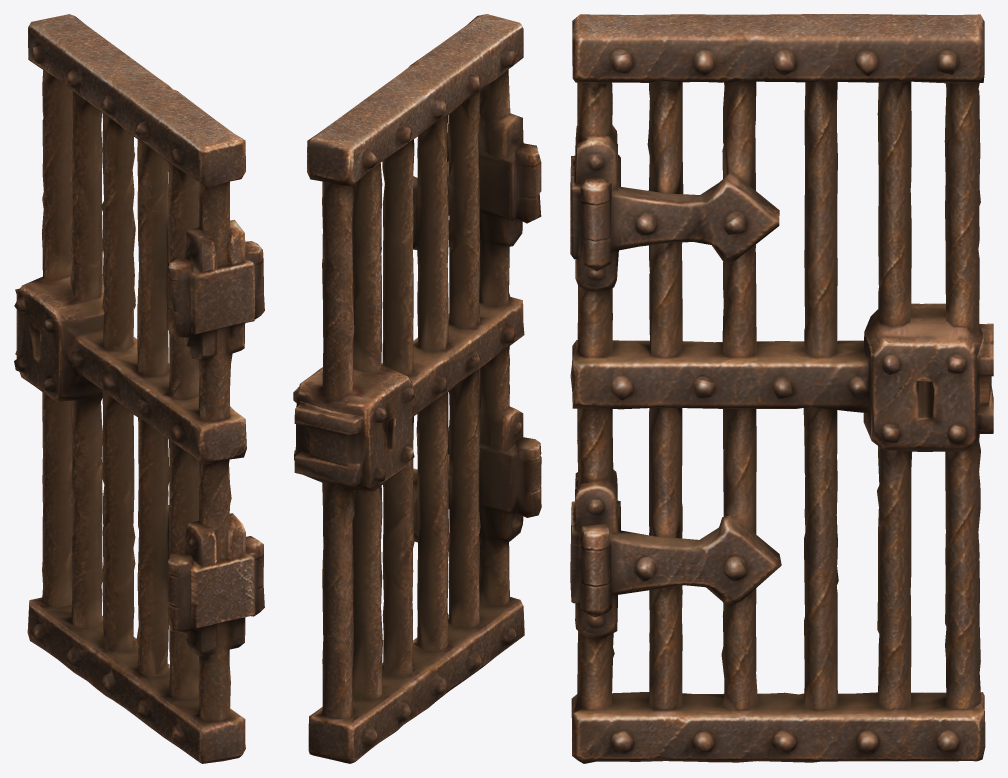
File: portao.glb
The picture shows the model from 3 angles, left to right: view 1: azimuth 30°, elevation 25°; view 2: azimuth 150°, elevation 25°; view 3: azimuth 270°, elevation 25°; orthographic projection. The views are drawn at different scales.
Visible parts, largest first — view 1: tripo_node_4991c36b-3e30-4b02-88e3-487a00026af3; view 2: tripo_node_4991c36b-3e30-4b02-88e3-487a00026af3; view 3: tripo_node_4991c36b-3e30-4b02-88e3-487a00026af3.
Part boxes in pixels (<box>): tripo_node_4991c36b-3e30-4b02-88e3-487a00026af3: <box>14,14,264,763</box>; tripo_node_4991c36b-3e30-4b02-88e3-487a00026af3: <box>293,14,541,763</box>; tripo_node_4991c36b-3e30-4b02-88e3-487a00026af3: <box>570,14,993,763</box>.
Size of the model in its own units: 0.3149 by 2 by 1.06.
Materials: 1 (1 with a texture image).
